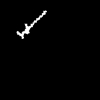double_crochet: (17, 11, 46, 38)
